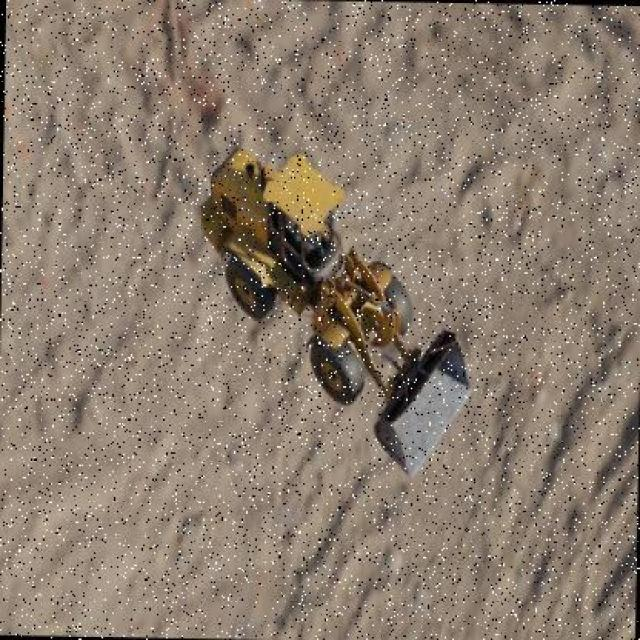buldozerpayloadergrader: (188, 140, 478, 483)
